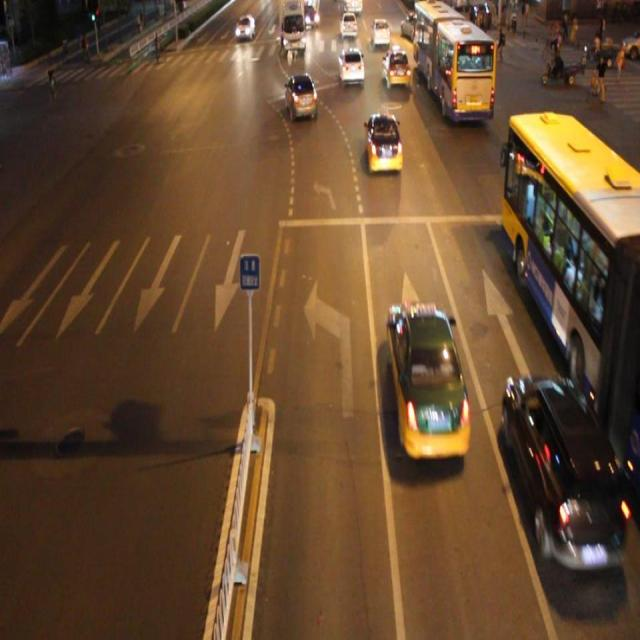car: (504, 370, 620, 570), (387, 300, 470, 455), (366, 111, 403, 171), (286, 71, 316, 119), (382, 48, 410, 86), (337, 49, 364, 83)
van: (503, 115, 640, 468), (414, 1, 494, 120)
